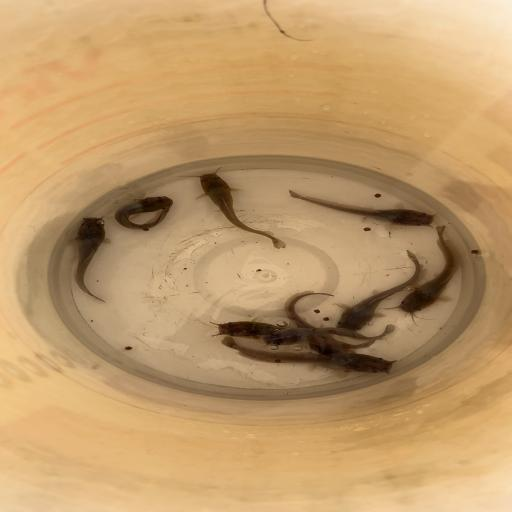lele: (192, 170, 287, 250), (335, 250, 424, 332), (212, 337, 398, 374), (395, 226, 460, 316), (285, 190, 437, 228), (281, 290, 356, 357), (208, 320, 376, 348), (71, 214, 108, 303), (259, 322, 395, 346), (112, 194, 176, 231)
